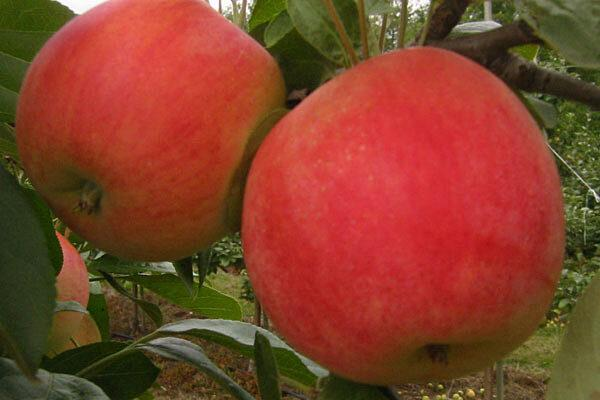apple: (245, 47, 566, 383), (14, 1, 294, 268)
